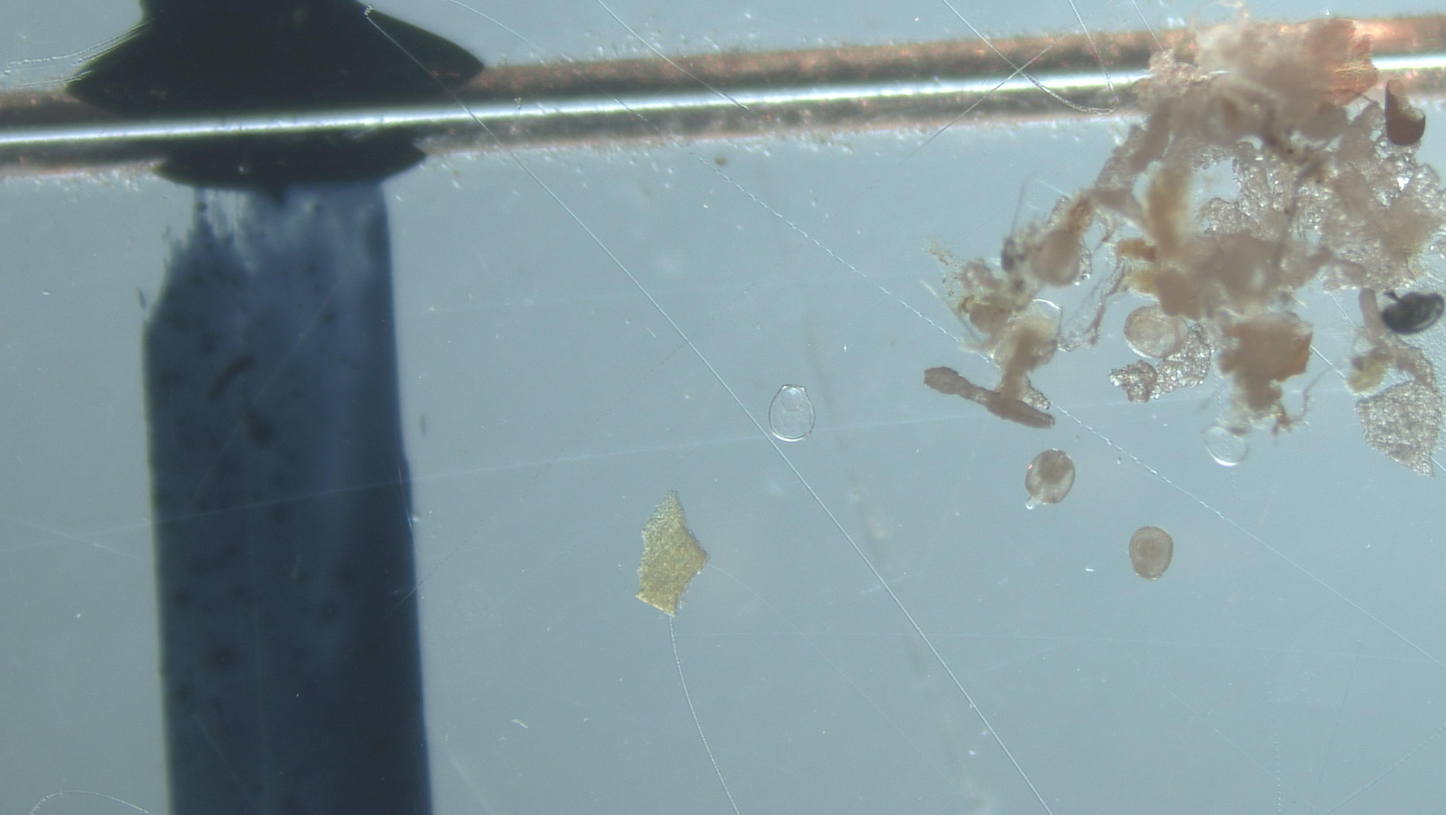dead: (769, 385, 816, 442), (1203, 425, 1249, 467)
live: (1030, 223, 1087, 285), (1125, 305, 1185, 358), (1025, 449, 1075, 509), (1382, 292, 1446, 334), (1129, 526, 1174, 580)
